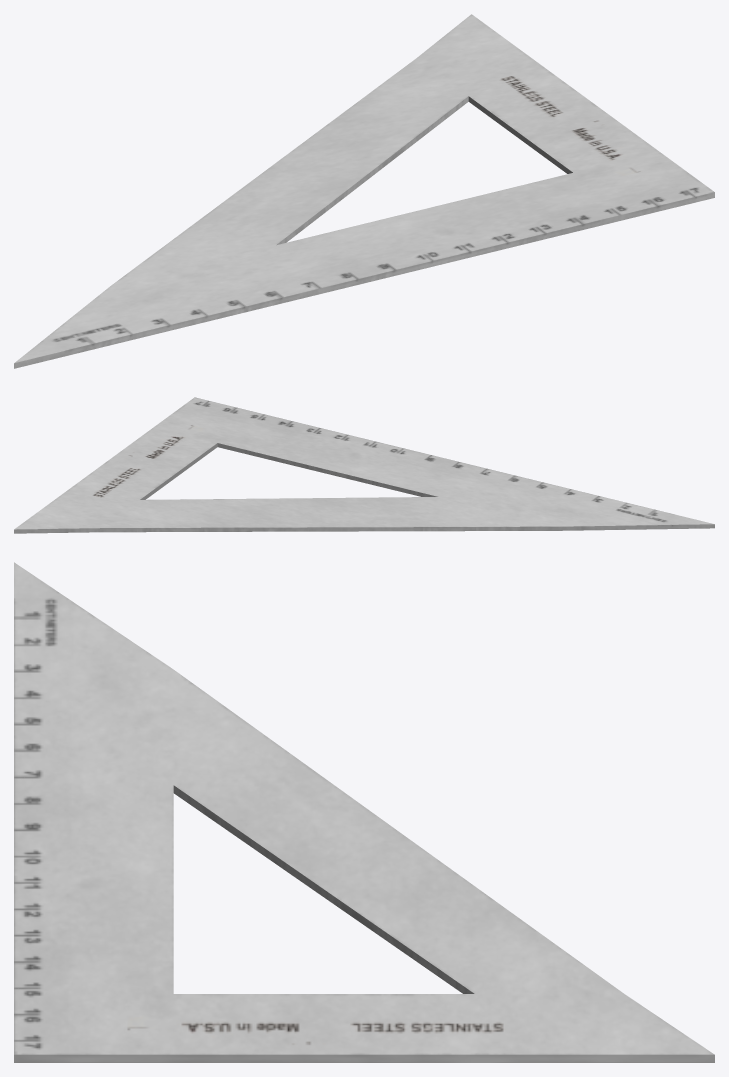
The model's file is SM_Rulers_01b.fbx.
The picture shows the model from 3 angles, top to bottom: view 1: azimuth 30°, elevation 25°; view 2: azimuth 150°, elevation 25°; view 3: azimuth 270°, elevation 25°; orthographic projection. The views are drawn at different scales.
Visible parts, largest first — view 1: SM_Rulers_01b_LOD0; view 2: SM_Rulers_01b_LOD0; view 3: SM_Rulers_01b_LOD0.
Part boxes in pixels (box(x1,y1,x2,y2)): SM_Rulers_01b_LOD0: box(14, 14, 714, 368); SM_Rulers_01b_LOD0: box(14, 397, 714, 533); SM_Rulers_01b_LOD0: box(14, 562, 714, 1062).
Bounding box in the file's own units: 16.64 × 10.01 × 0.1272.
Materials: 1 (1 with a texture image).
